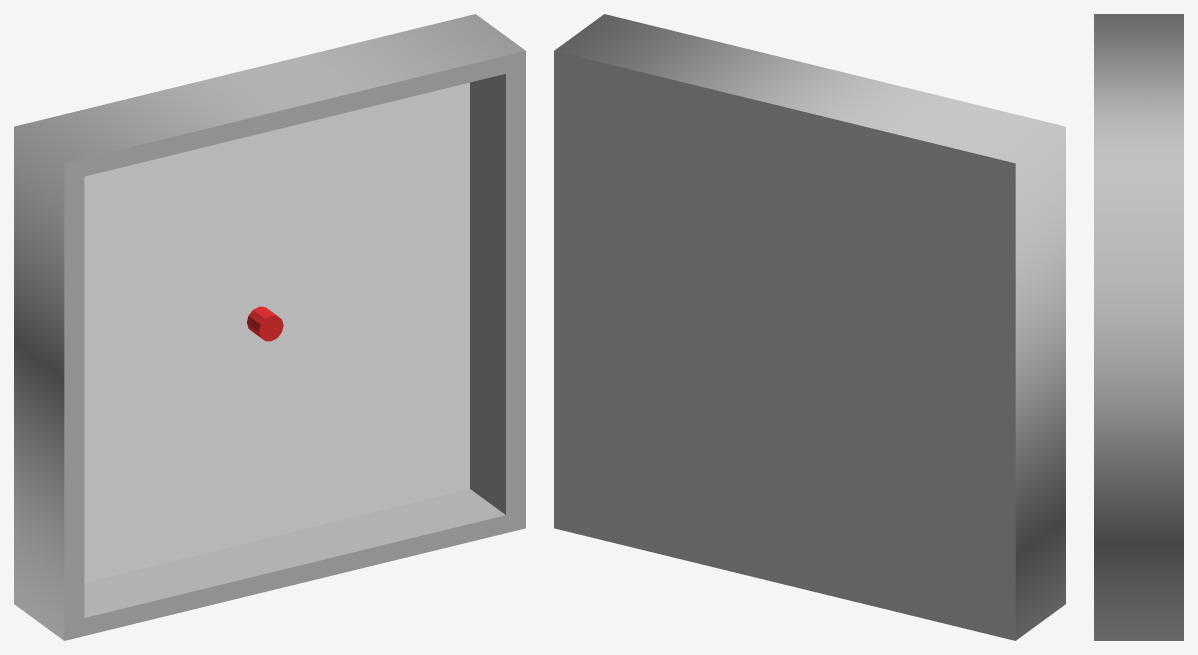
File: Itr_Obj_clock3_01.FBX
The picture shows the model from 3 angles, left to right: view 1: azimuth 30°, elevation 25°; view 2: azimuth 150°, elevation 25°; view 3: azimuth 270°, elevation 25°; orthographic projection. The views are drawn at different scales.
Visible parts, largest first — view 1: Itr_Obj_clock3_01; view 2: Itr_Obj_clock3_01; view 3: Itr_Obj_clock3_01.
Boxes of the visible parts, box(x1,y1,x2,y2) form: Itr_Obj_clock3_01: box(14, 14, 525, 640); Itr_Obj_clock3_01: box(554, 14, 1065, 640); Itr_Obj_clock3_01: box(1094, 14, 1183, 640).
Bounding box in the file's own units: 10.59 × 10.47 × 2.
